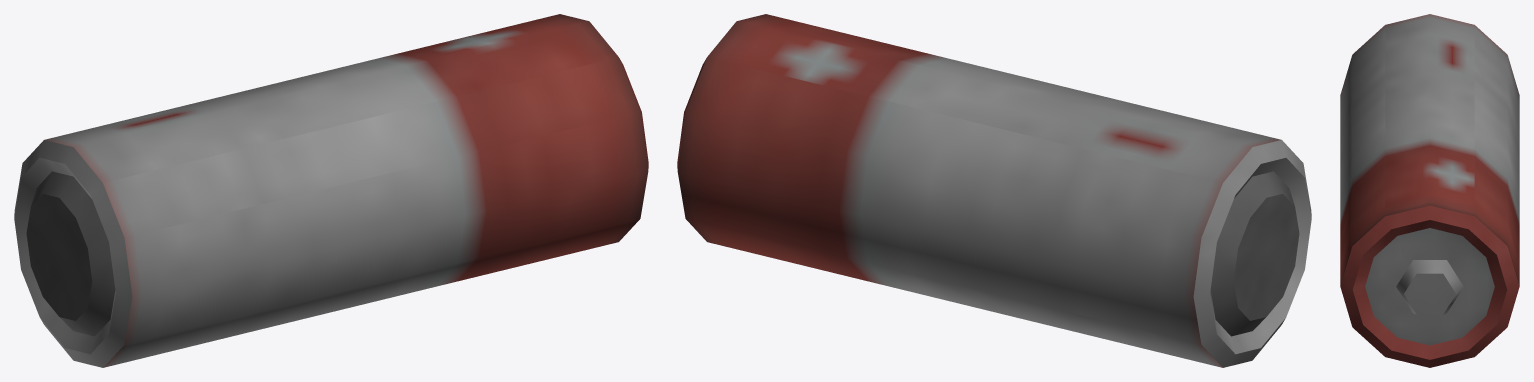
The model's file is battery_mp_1_1.obj.
3 renders of one model, left to right at view 1: azimuth 30°, elevation 25°; view 2: azimuth 150°, elevation 25°; view 3: azimuth 270°, elevation 25°, orthographic. The views are drawn at different scales.
Visible parts, largest first — view 1: battery_mp_1_1; view 2: battery_mp_1_1; view 3: battery_mp_1_1.
Part boxes in pixels (x1,y1,x2,y2): battery_mp_1_1: (14,14,648,367); battery_mp_1_1: (677,14,1311,367); battery_mp_1_1: (1340,14,1519,367).
Bounding box in the file's own units: 0.097 × 0.036 × 0.036.
